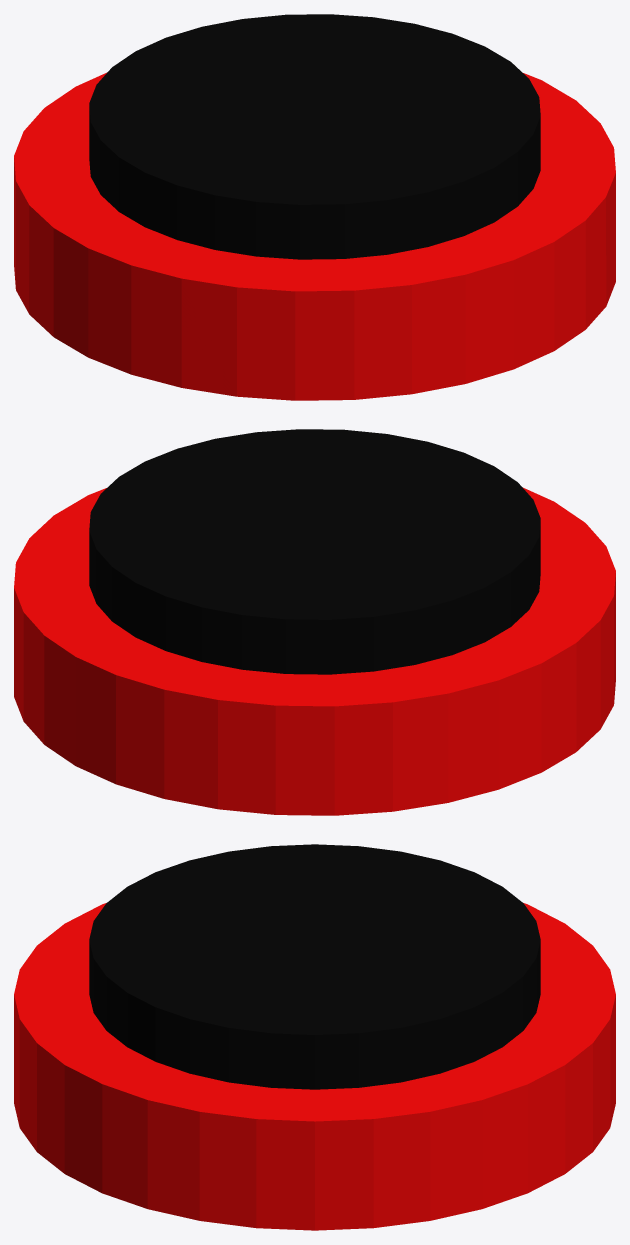
File: RedNote.obj
3 renders of one model, top to bottom at view 1: azimuth 30°, elevation 25°; view 2: azimuth 150°, elevation 25°; view 3: azimuth 270°, elevation 25°, orthographic.
Visible parts, largest first — view 1: Base, Top; view 2: Base, Top; view 3: Base, Top.
Boxes of the visible parts, x1,y1,x2,y2 form: Base: (14, 72, 615, 400); Top: (89, 14, 540, 259); Base: (14, 487, 615, 815); Top: (89, 429, 540, 674); Base: (14, 903, 615, 1230); Top: (89, 844, 540, 1089).
Size of the model in its own units: 2 by 0.6 by 2.
